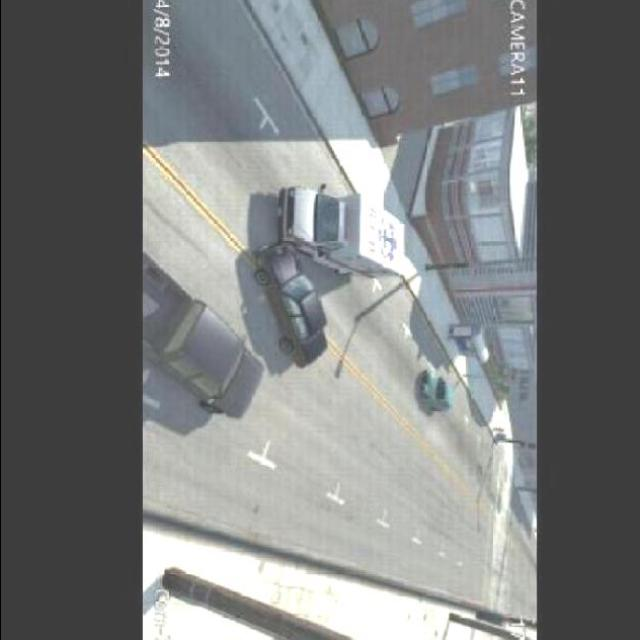accident: (244, 165, 380, 371)
